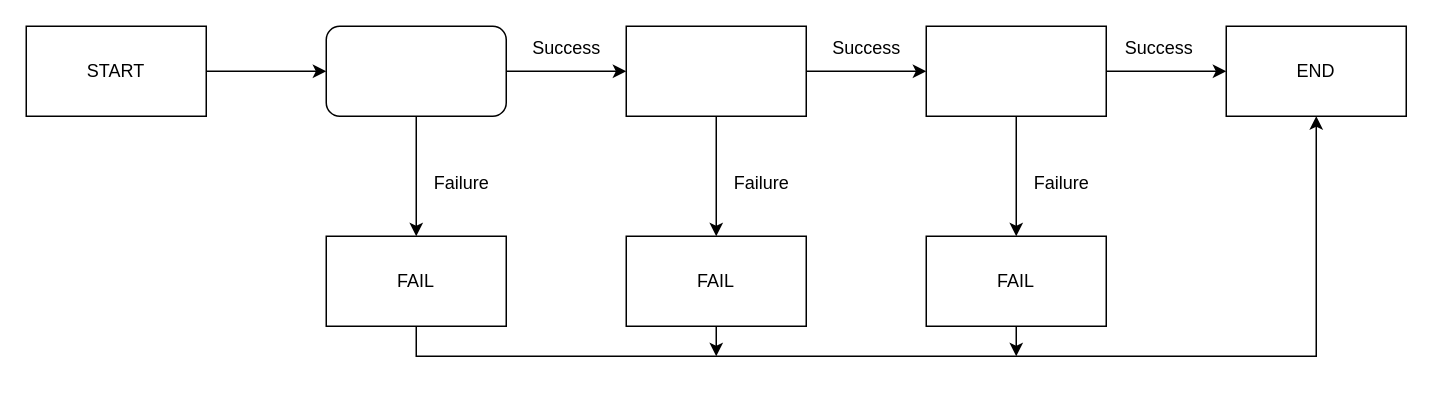
Some shapes in this 1433 by 395 pixel diagram are drawn without their labels. Here are the shapes that lost their labels. From the top down, the centre of each, then its label:
At point 415,70: "JOB 1 On time probability".
At point 715,70: "JOB 2 Avg Taxi Time".
At point 1015,70: "JOB 3 Flight Cancellations".
